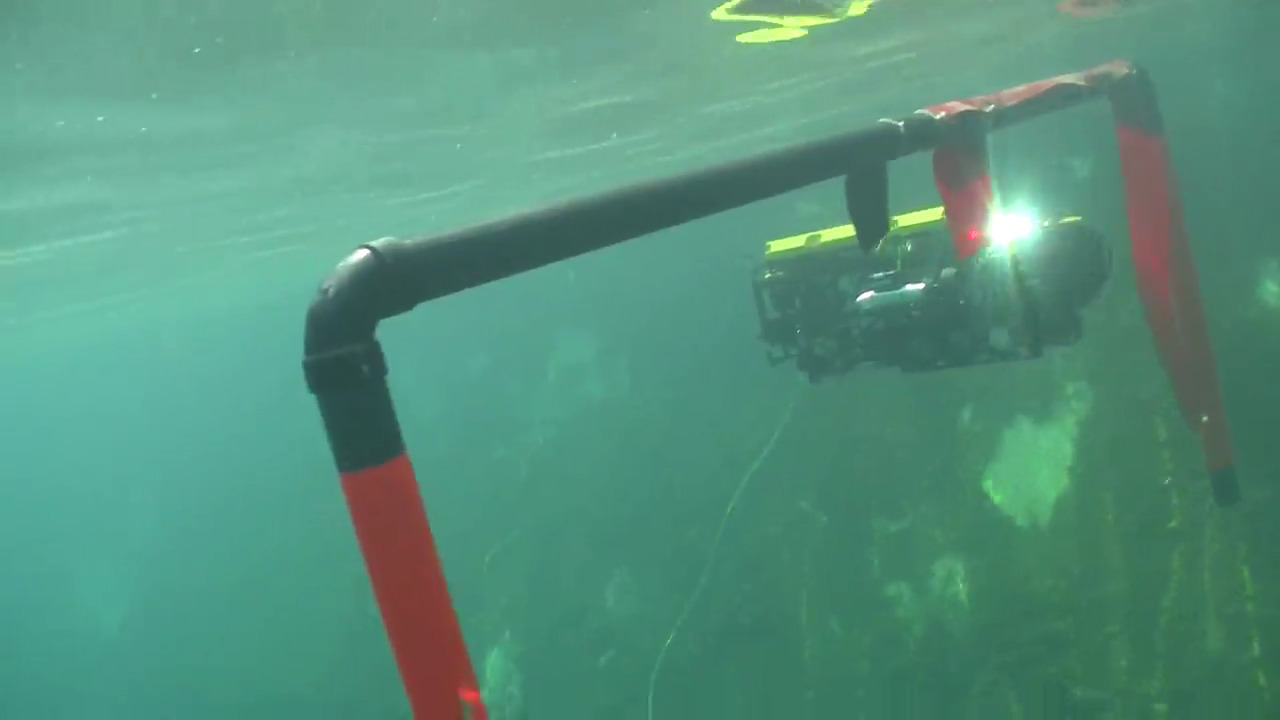gate: (284, 42, 1247, 718)
